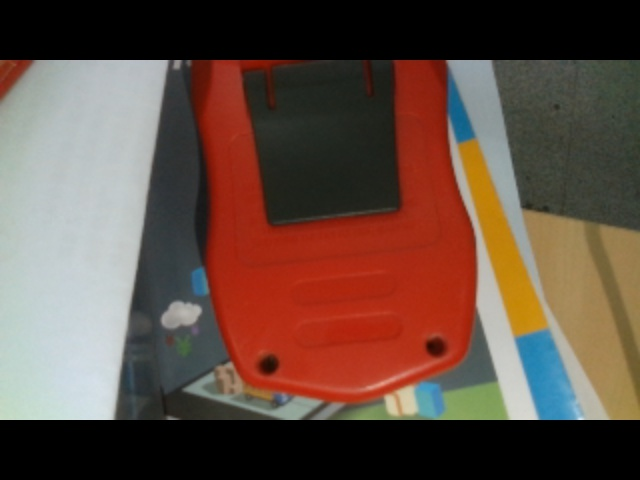Screw holes: (425, 333, 451, 359), (257, 351, 282, 377)
